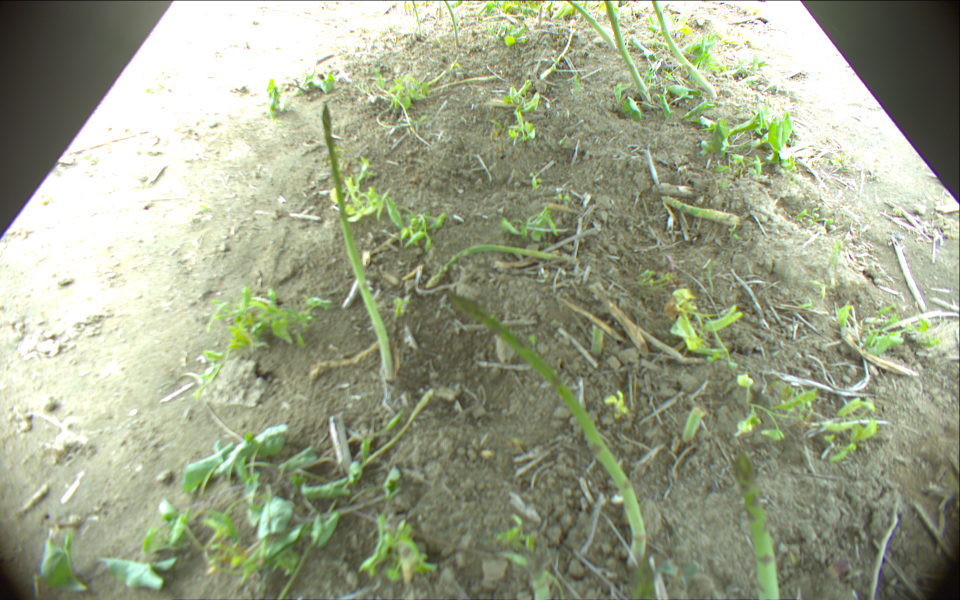aspa: (445, 291, 647, 567), (277, 389, 436, 600), (321, 101, 397, 380), (730, 449, 782, 600), (425, 242, 566, 290), (651, 1, 718, 98), (604, 1, 652, 101), (664, 193, 741, 227), (564, 1, 617, 49), (444, 1, 461, 45), (412, 1, 425, 39)
